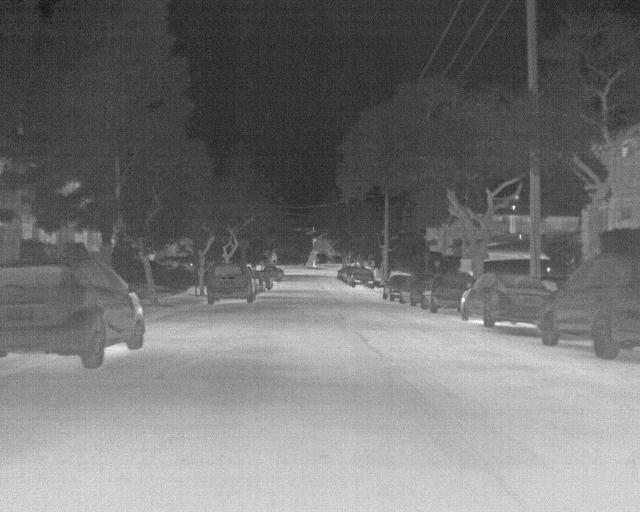car: (0, 257, 144, 369), (537, 250, 639, 359), (459, 272, 550, 327), (206, 261, 255, 306), (421, 272, 461, 313), (382, 272, 400, 301), (351, 267, 375, 287), (408, 275, 422, 306), (259, 262, 283, 280), (254, 268, 272, 291), (398, 274, 411, 304), (337, 265, 353, 283)
